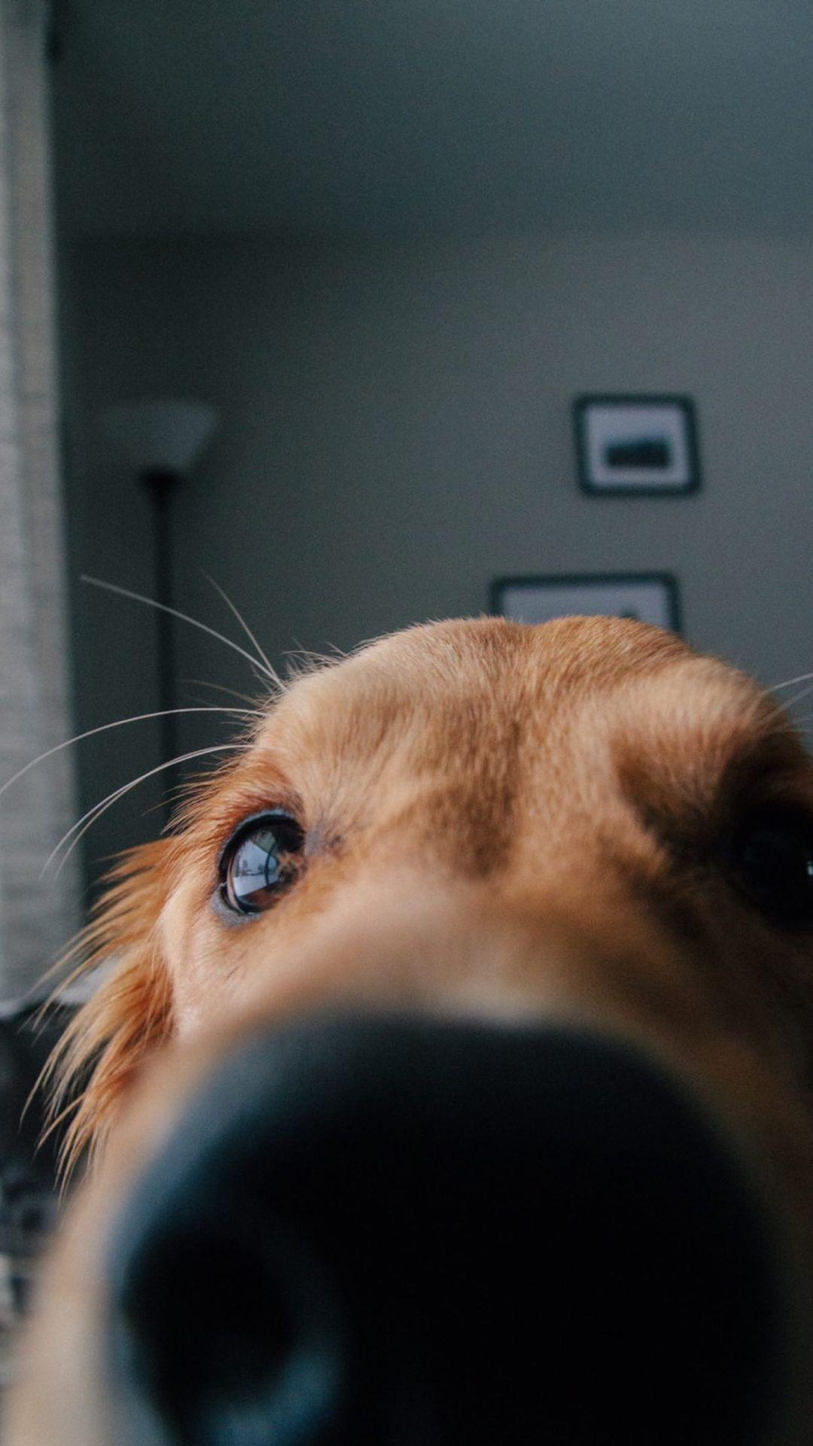adult_dog: (0, 614, 813, 1446)
